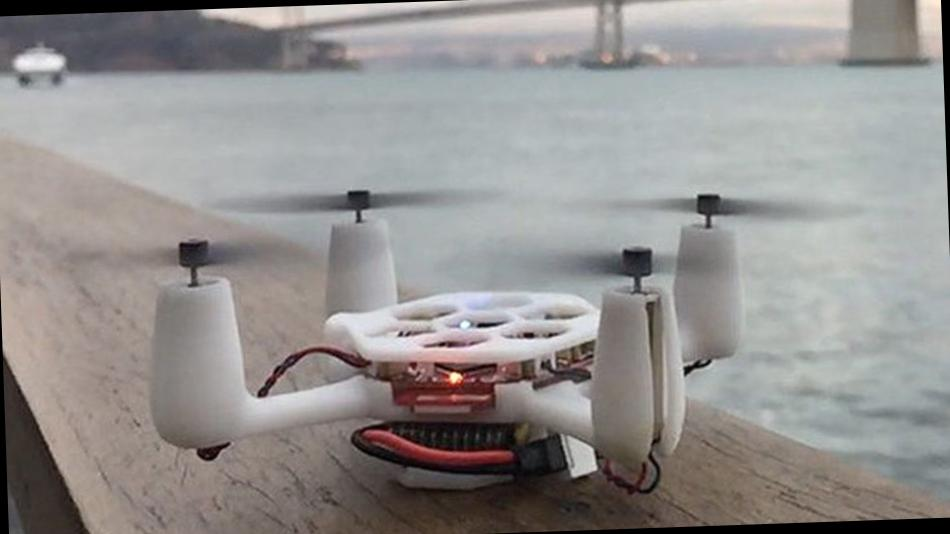drone: (99, 147, 840, 472)
